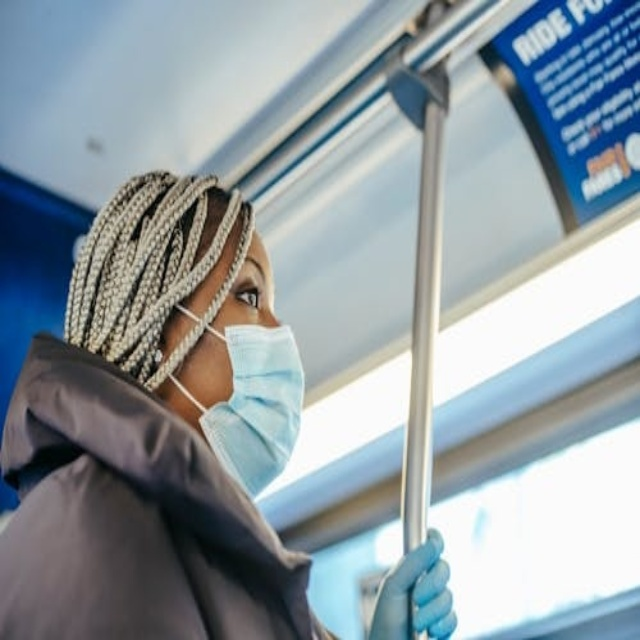Guantes: (366, 527, 453, 640)
Mascara: (183, 317, 306, 501)
Sin_gafas: (234, 286, 260, 310)
